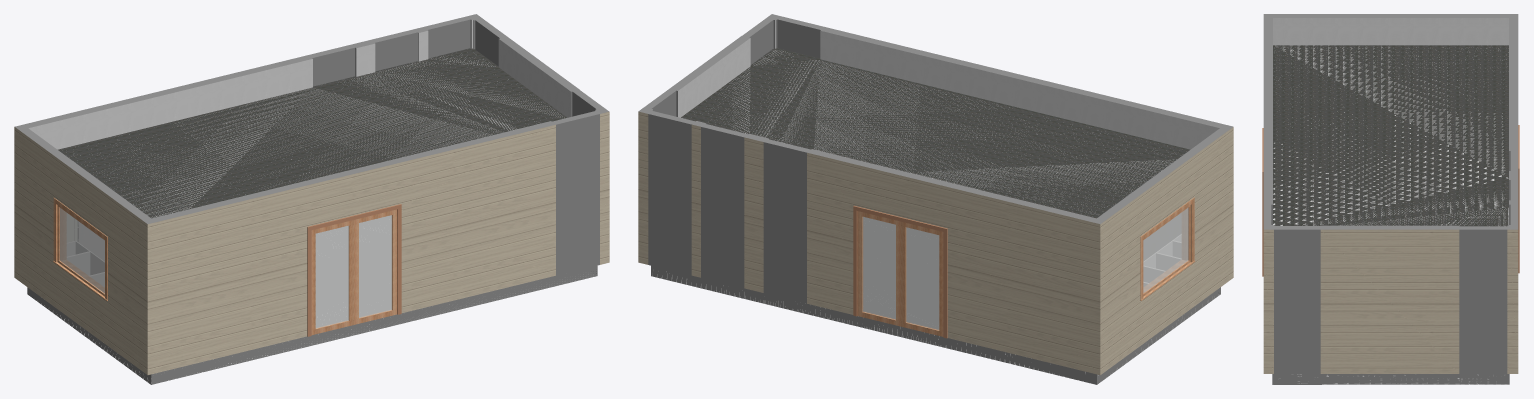
File: Lifestyle_tag.glb
3 views of the same model, side by side, from view 1: azimuth 30°, elevation 25°; view 2: azimuth 150°, elevation 25°; view 3: azimuth 270°, elevation 25° (orthographic). The views are drawn at different scales.
Parts seen in each view (by area): view 1: External_Wall1, Roof1, External_Wall8, Floor1, Double-Glass_1_582679, Basic_Wall_573940, Basic_Wall_577918, Compound_Ceiling_578510, Fixed_with_Trim_578626, External_Wall5 (×2), undefined, Basic_Wall_573901 (+10 smaller); view 2: Roof1, External_Wall5 (×2), External_Wall8, Basic_Wall_573827, Floor1, Double-Glass_1_582721, Basic_Wall_576194, Basic_Wall_576338, Basic_Wall_576272, Compound_Ceiling_578510, External_Wall6 (×2), Fixed_with_Trim_578626 (+8 smaller); view 3: Roof1, External_Wall3, Basic_Wall_583041, Basic_Wall_575233, Basic_Wall_574003, Compound_Ceiling_578510, Floor1, External_Wall4 (×2), undefined, External_Wall2, External_Wall5, External_Wall6 (+3 smaller).
Part boxes in pixels (left/top/right/bottom): External_Wall1: left=142, top=124, right=555, bottom=374; Roof1: left=58, top=48, right=566, bottom=218; External_Wall8: left=19, top=131, right=142, bottom=371; Floor1: left=27, top=216, right=597, bottom=384; Double-Glass_1_582679: left=307, top=204, right=401, bottom=336; Basic_Wall_573940: left=28, top=59, right=312, bottom=260; Basic_Wall_577918: left=552, top=111, right=599, bottom=275; Compound_Ceiling_578510: left=80, top=56, right=566, bottom=217; Fixed_with_Trim_578626: left=53, top=198, right=107, bottom=300; External_Wall5 (×2): left=14, top=55, right=312, bottom=280; undefined: left=143, top=121, right=555, bottom=223; Basic_Wall_573901: left=498, top=39, right=571, bottom=117; Roof1: left=681, top=48, right=1189, bottom=218; External_Wall5 (×2): left=807, top=149, right=1105, bottom=375; External_Wall8: left=1105, top=130, right=1228, bottom=371; Basic_Wall_573827: left=820, top=31, right=1219, bottom=260; Floor1: left=651, top=217, right=1220, bottom=384; Double-Glass_1_582721: left=853, top=205, right=947, bottom=338; Basic_Wall_576194: left=763, top=139, right=810, bottom=303; Basic_Wall_576338: left=648, top=111, right=695, bottom=275; Basic_Wall_576272: left=701, top=124, right=747, bottom=288; Compound_Ceiling_578510: left=720, top=50, right=1176, bottom=207; External_Wall6 (×2): left=669, top=36, right=763, bottom=292; Fixed_with_Trim_578626: left=1140, top=197, right=1195, bottom=300; Roof1: left=1273, top=45, right=1508, bottom=226; External_Wall3: left=1320, top=229, right=1459, bottom=373; Basic_Wall_583041: left=1459, top=226, right=1507, bottom=373; Basic_Wall_575233: left=1274, top=226, right=1320, bottom=373; Basic_Wall_574003: left=1273, top=18, right=1508, bottom=45; Compound_Ceiling_578510: left=1273, top=45, right=1508, bottom=225; Floor1: left=1272, top=374, right=1509, bottom=384; External_Wall4 (×2): left=1273, top=14, right=1518, bottom=373; undefined: left=1263, top=14, right=1272, bottom=224; External_Wall2: left=1263, top=229, right=1272, bottom=373; External_Wall5: left=1509, top=14, right=1518, bottom=170; External_Wall6: left=1320, top=225, right=1459, bottom=229.
Bounding box in the file's own units: 9.79 × 3.35 × 4.93.
Materials: 30 (12 with a texture image).
